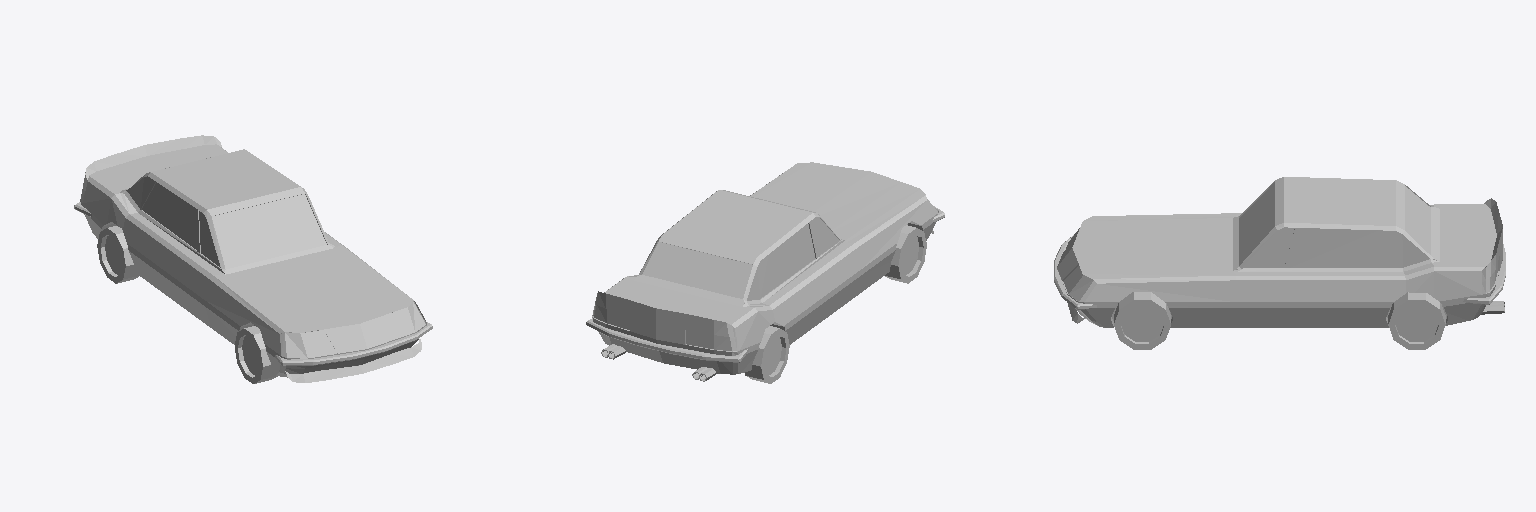
File: CoupéSport.obj
3 views of the same model, side by side, from view 1: azimuth 30°, elevation 25°; view 2: azimuth 150°, elevation 25°; view 3: azimuth 270°, elevation 25° (orthographic).
Parts seen in each view (by area): view 1: Body, window, spoiler, tire, fontLight, bumper, jantes; view 2: Body, window, tire, bumper, backLight, jantes; view 3: Body, window, tire, jantes, bumper, fontLight.
Part boxes in pixels (left/top/right/bottom): Body: left=80, top=144, right=426, bottom=377; window: left=142, top=182, right=326, bottom=268; spoiler: left=85, top=135, right=421, bottom=382; tire: left=97, top=226, right=277, bottom=383; fontLight: left=285, top=302, right=425, bottom=358; bumper: left=74, top=202, right=432, bottom=365; jantes: left=105, top=235, right=259, bottom=375; Body: left=592, top=162, right=938, bottom=374; window: left=642, top=217, right=839, bottom=298; tire: left=745, top=225, right=926, bottom=383; bumper: left=586, top=206, right=944, bottom=362; backLight: left=594, top=305, right=731, bottom=350; jantes: left=764, top=235, right=918, bottom=375; Body: left=1057, top=177, right=1502, bottom=327; window: left=1239, top=182, right=1430, bottom=267; tire: left=1114, top=292, right=1445, bottom=349; jantes: left=1121, top=306, right=1438, bottom=341; bumper: left=1054, top=235, right=1505, bottom=309; fontLight: left=1063, top=228, right=1093, bottom=301.
Bounding box in the file's own units: 33.82 × 23.64 × 86.12.